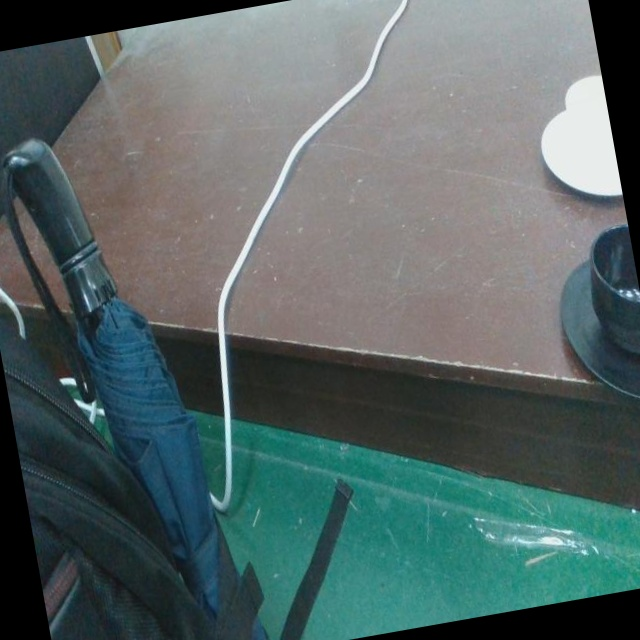black: (559, 223, 640, 422)
white: (538, 74, 613, 208)
